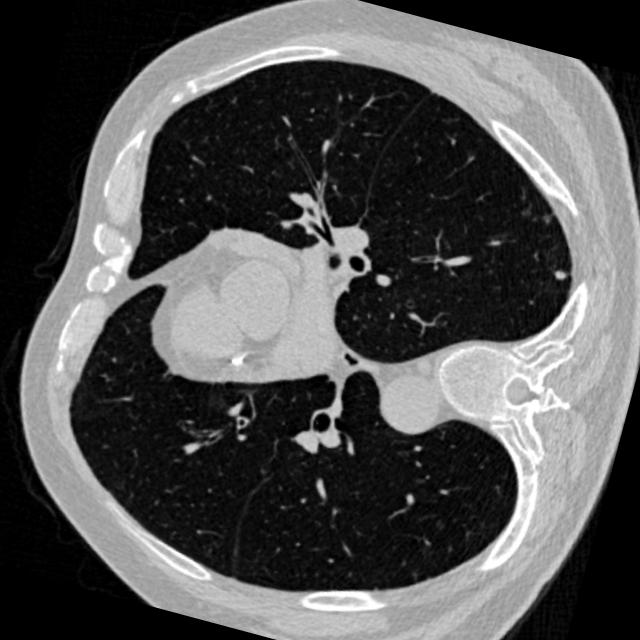nodule: (546, 258, 573, 285)
